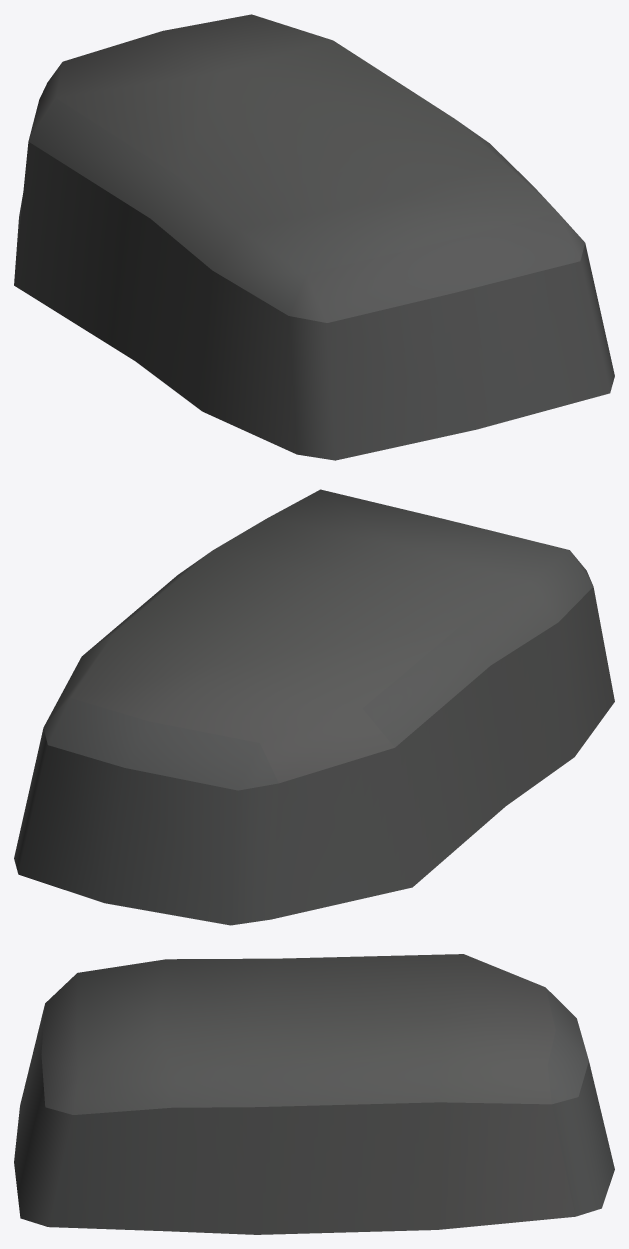
The model's file is Brick_5_1.obj.
3 renders of one model, top to bottom at view 1: azimuth 30°, elevation 25°; view 2: azimuth 150°, elevation 25°; view 3: azimuth 270°, elevation 25°, orthographic. The views are drawn at different scales.
Parts seen in each view (by area): view 1: Brick_5_1; view 2: Brick_5_1; view 3: Brick_5_1.
Part boxes in pixels (bbox=[...]): Brick_5_1: bbox=[14, 14, 614, 460]; Brick_5_1: bbox=[14, 489, 614, 925]; Brick_5_1: bbox=[14, 954, 614, 1234].
Bounding box in the file's own units: 0.1515 × 0.0674 × 0.2489.
